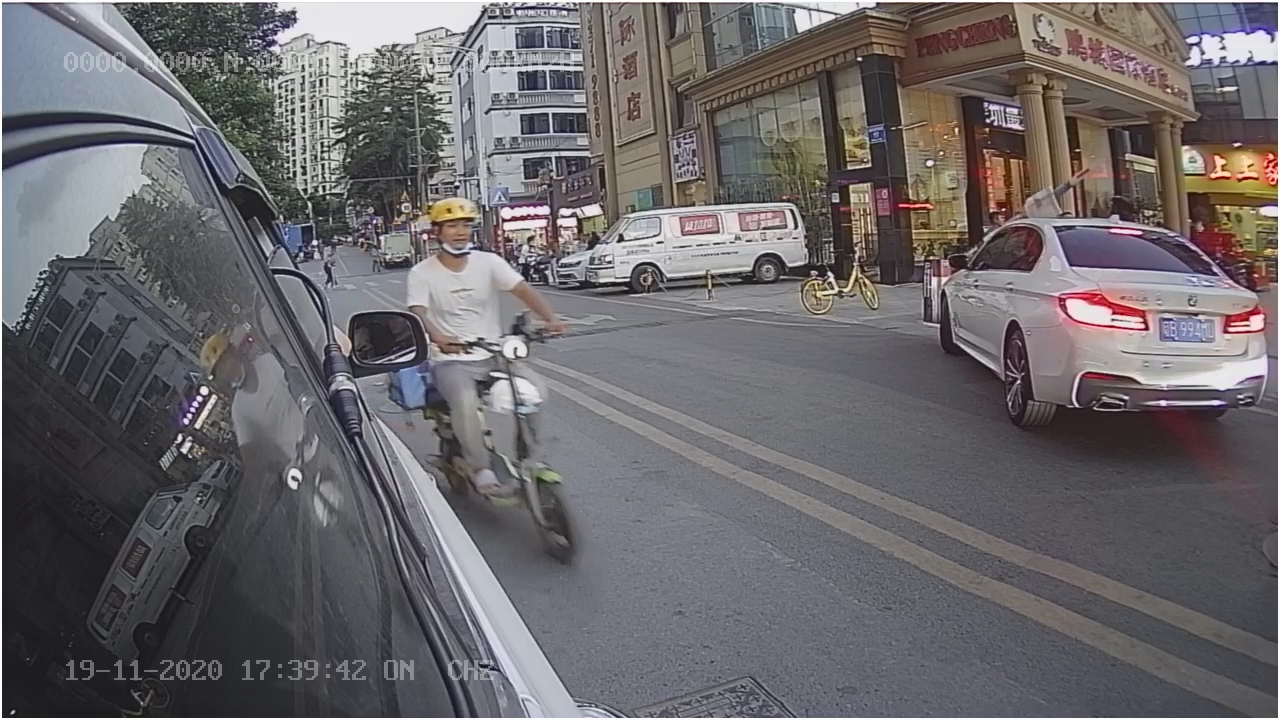person: (401, 203, 506, 316)
